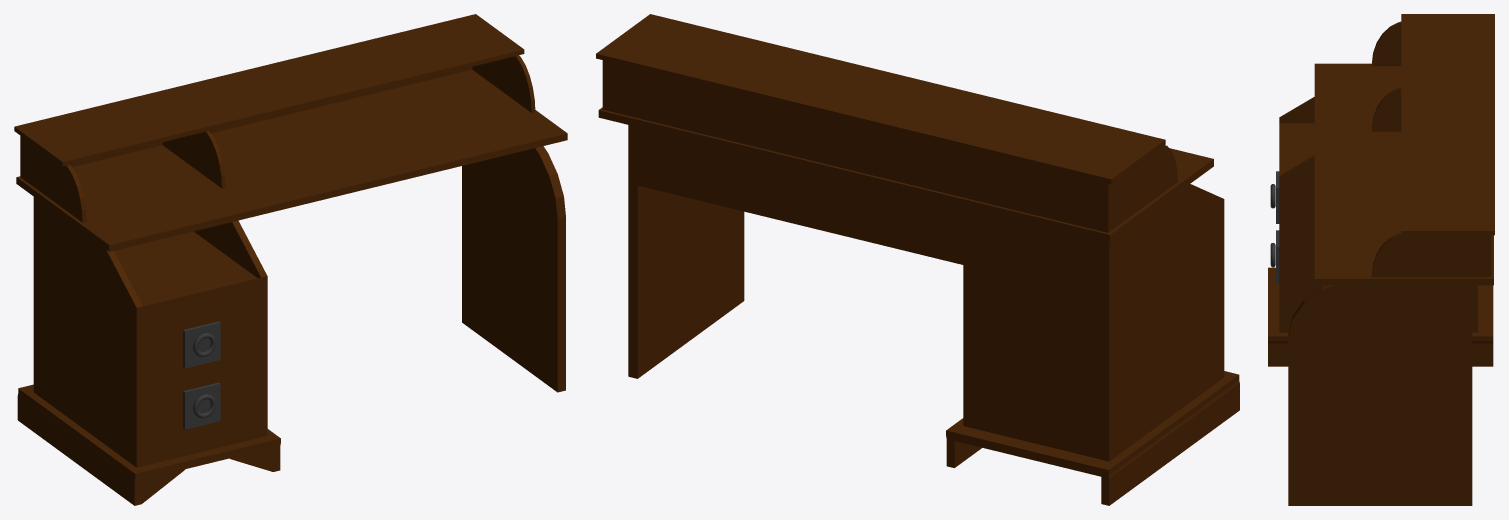
File: CPI441_Fur_Desk_V3_O5.fbx
3 renders of one model, left to right at view 1: azimuth 30°, elevation 25°; view 2: azimuth 150°, elevation 25°; view 3: azimuth 270°, elevation 25°, orthographic. The views are drawn at different scales.
Parts seen in each view (by area): view 1: Cube.001; view 2: Cube.001; view 3: Cube.001.
Part boxes in pixels (x1,y1,x2,y2): Cube.001: (14, 14, 567, 505); Cube.001: (596, 14, 1239, 505); Cube.001: (1268, 14, 1494, 505).
Size of the model in its own units: 781 by 475 by 345.
